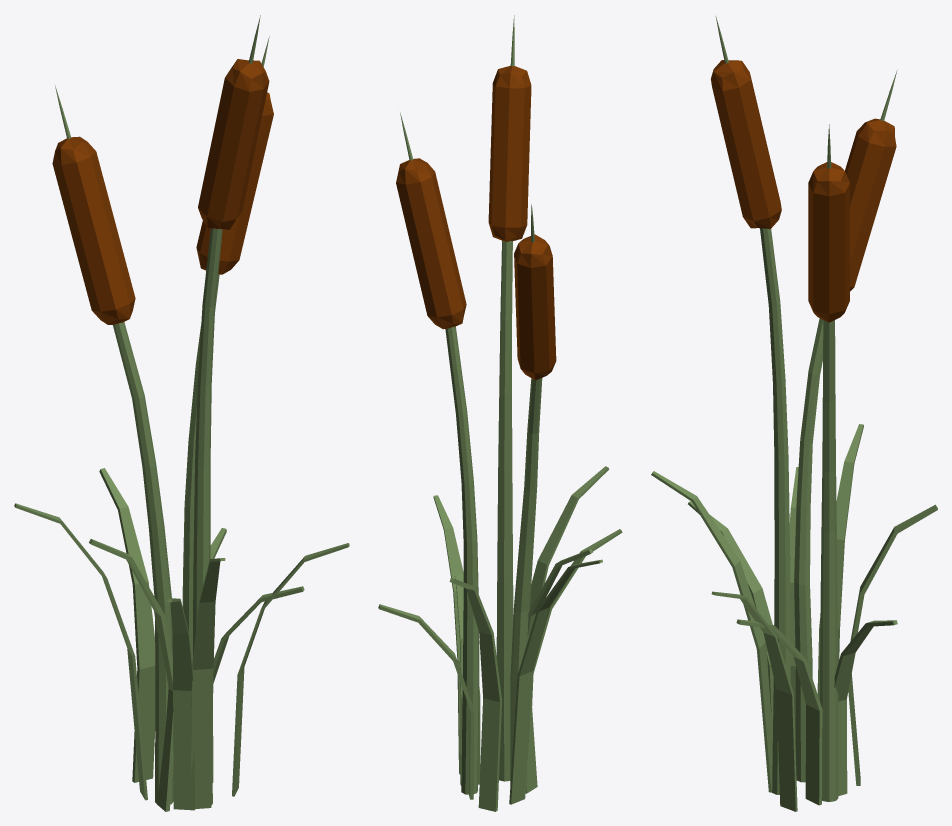
The model's file is cattail.gltf.
3 renders of one model, left to right at view 1: azimuth 30°, elevation 25°; view 2: azimuth 150°, elevation 25°; view 3: azimuth 270°, elevation 25°, orthographic. The views are drawn at different scales.
Parts seen in each view (by area): view 1: node-0; view 2: node-0; view 3: node-0.
Boxes of the visible parts, x1,y1,x2,y2 form: node-0: [14, 15, 349, 811]; node-0: [378, 15, 622, 811]; node-0: [651, 16, 937, 811].
Size of the model in its own units: 4.47 by 13.25 by 4.37.
